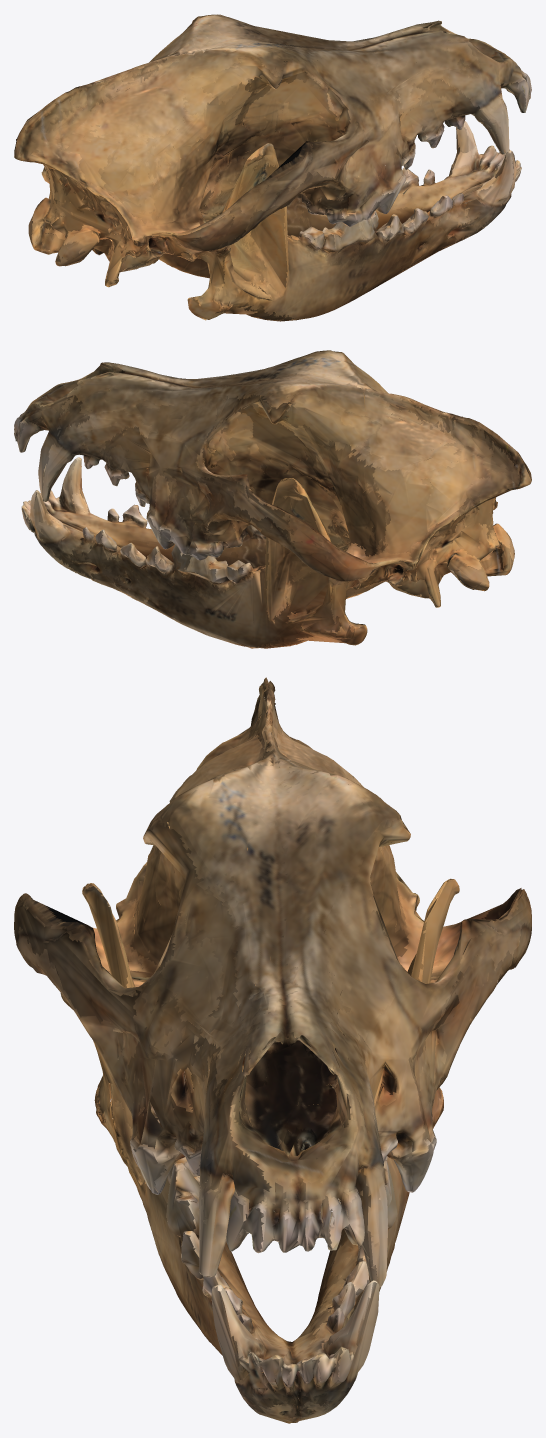
The model's file is canis-lupus.glb.
3 views of the same model, one above another, from view 1: azimuth 30°, elevation 25°; view 2: azimuth 150°, elevation 25°; view 3: azimuth 270°, elevation 25° (orthographic). The views are drawn at different scales.
Parts seen in each view (by area): view 1: skull, jaw; view 2: skull, jaw; view 3: skull, jaw.
Boxes of the visible parts, box(x1,y1,x2,y2) form: skull: box(14, 14, 531, 287); jaw: box(92, 121, 521, 321); skull: box(14, 350, 531, 607); jaw: box(21, 457, 384, 648); skull: box(14, 677, 531, 1287); jaw: box(60, 878, 459, 1423).
Size of the model in its own units: 65.56 by 33.83 by 33.9.
Materials: 2 (2 with a texture image).
